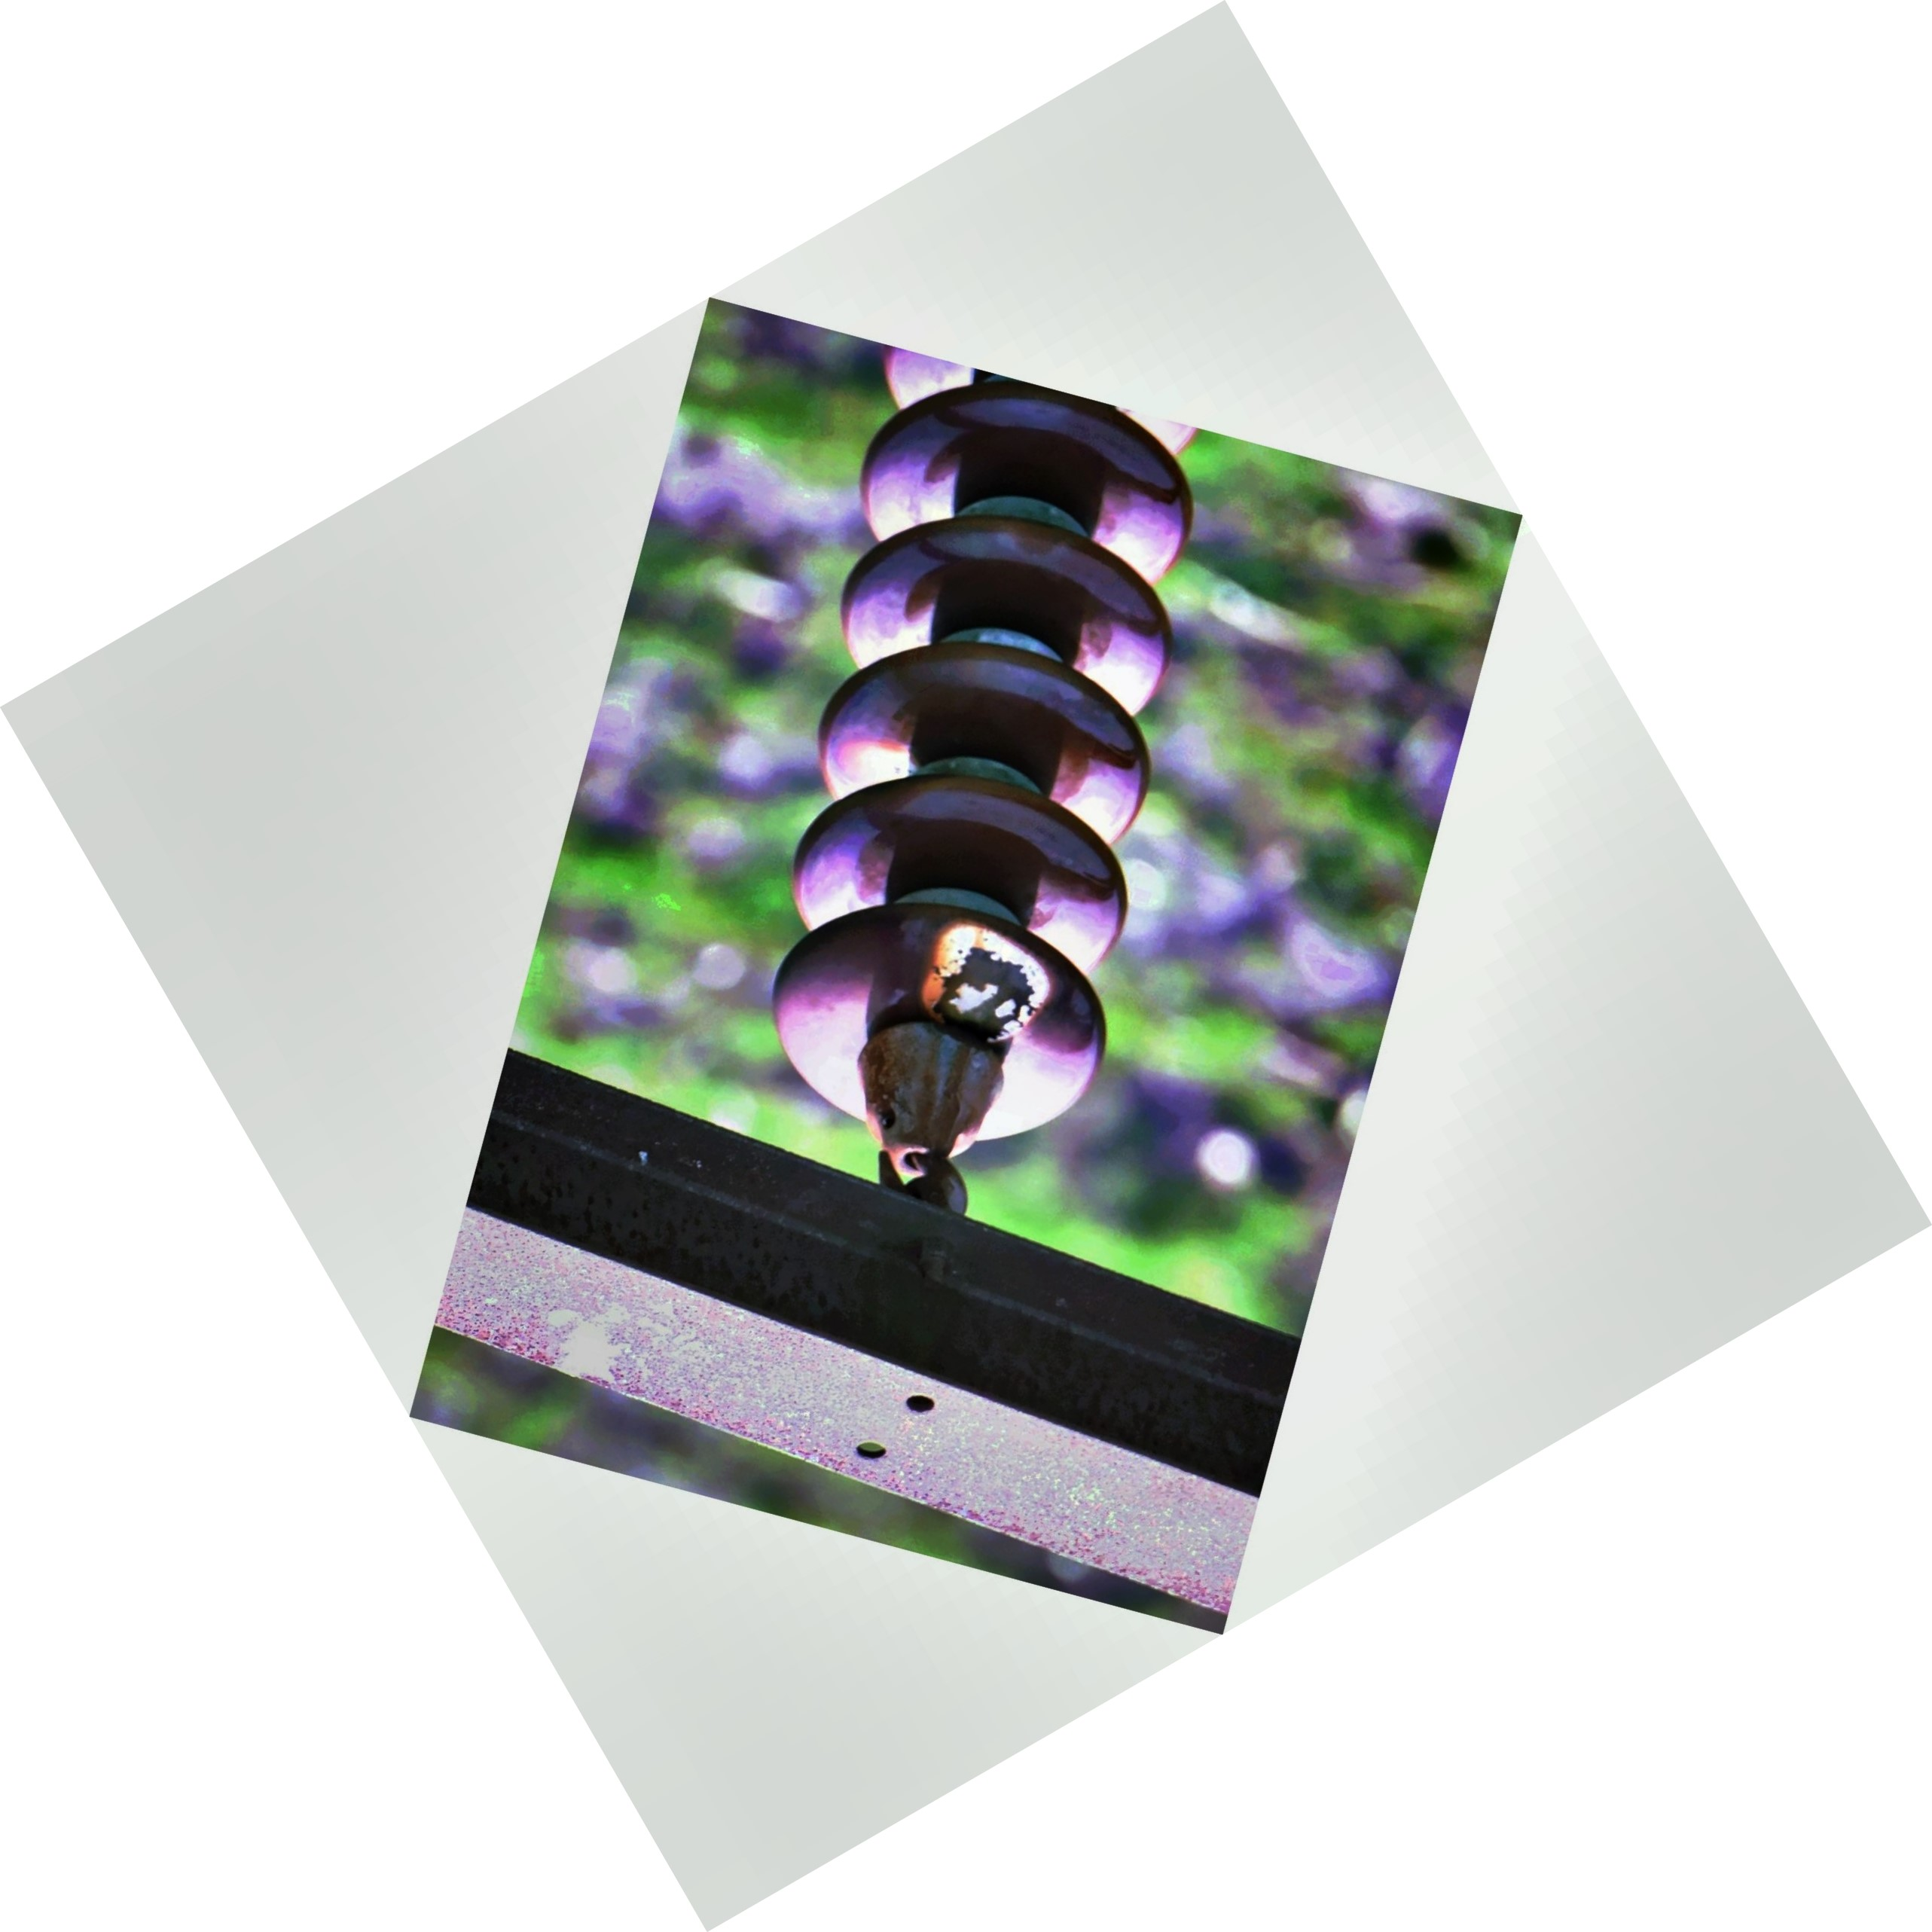Insulator flashover: (741, 897, 1129, 1157)
